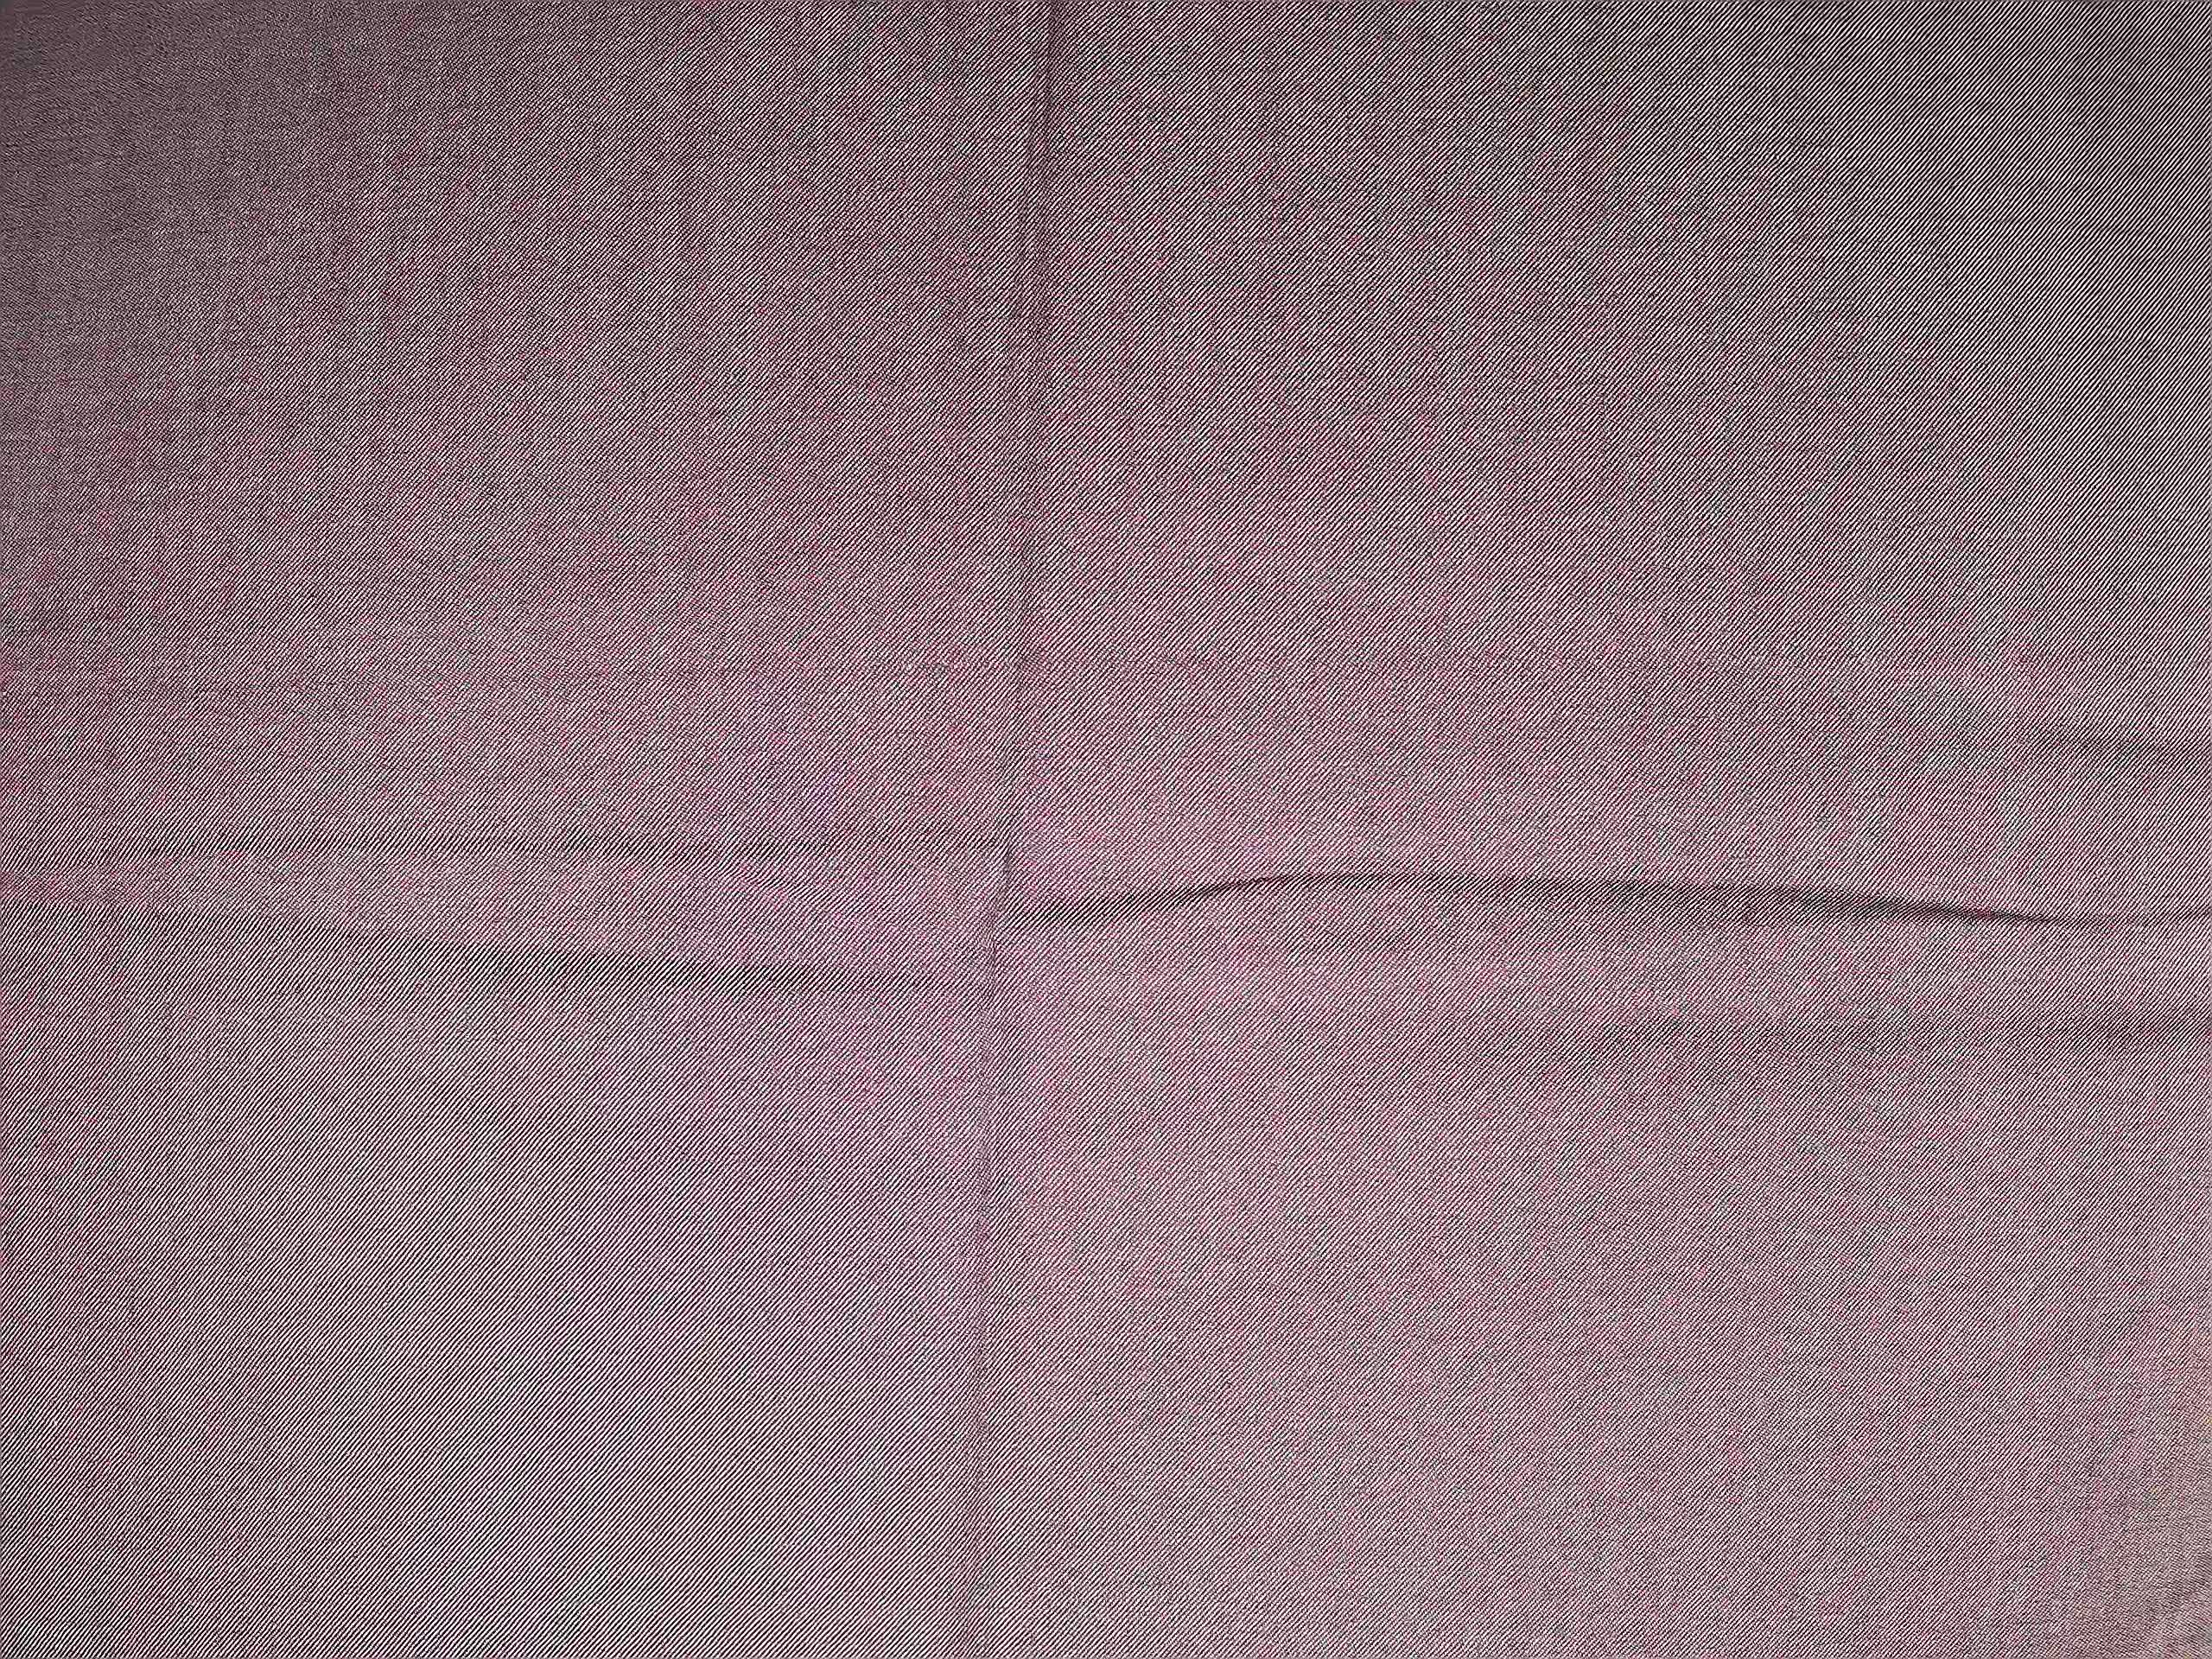thin-spinning: (651, 645, 1312, 690)
